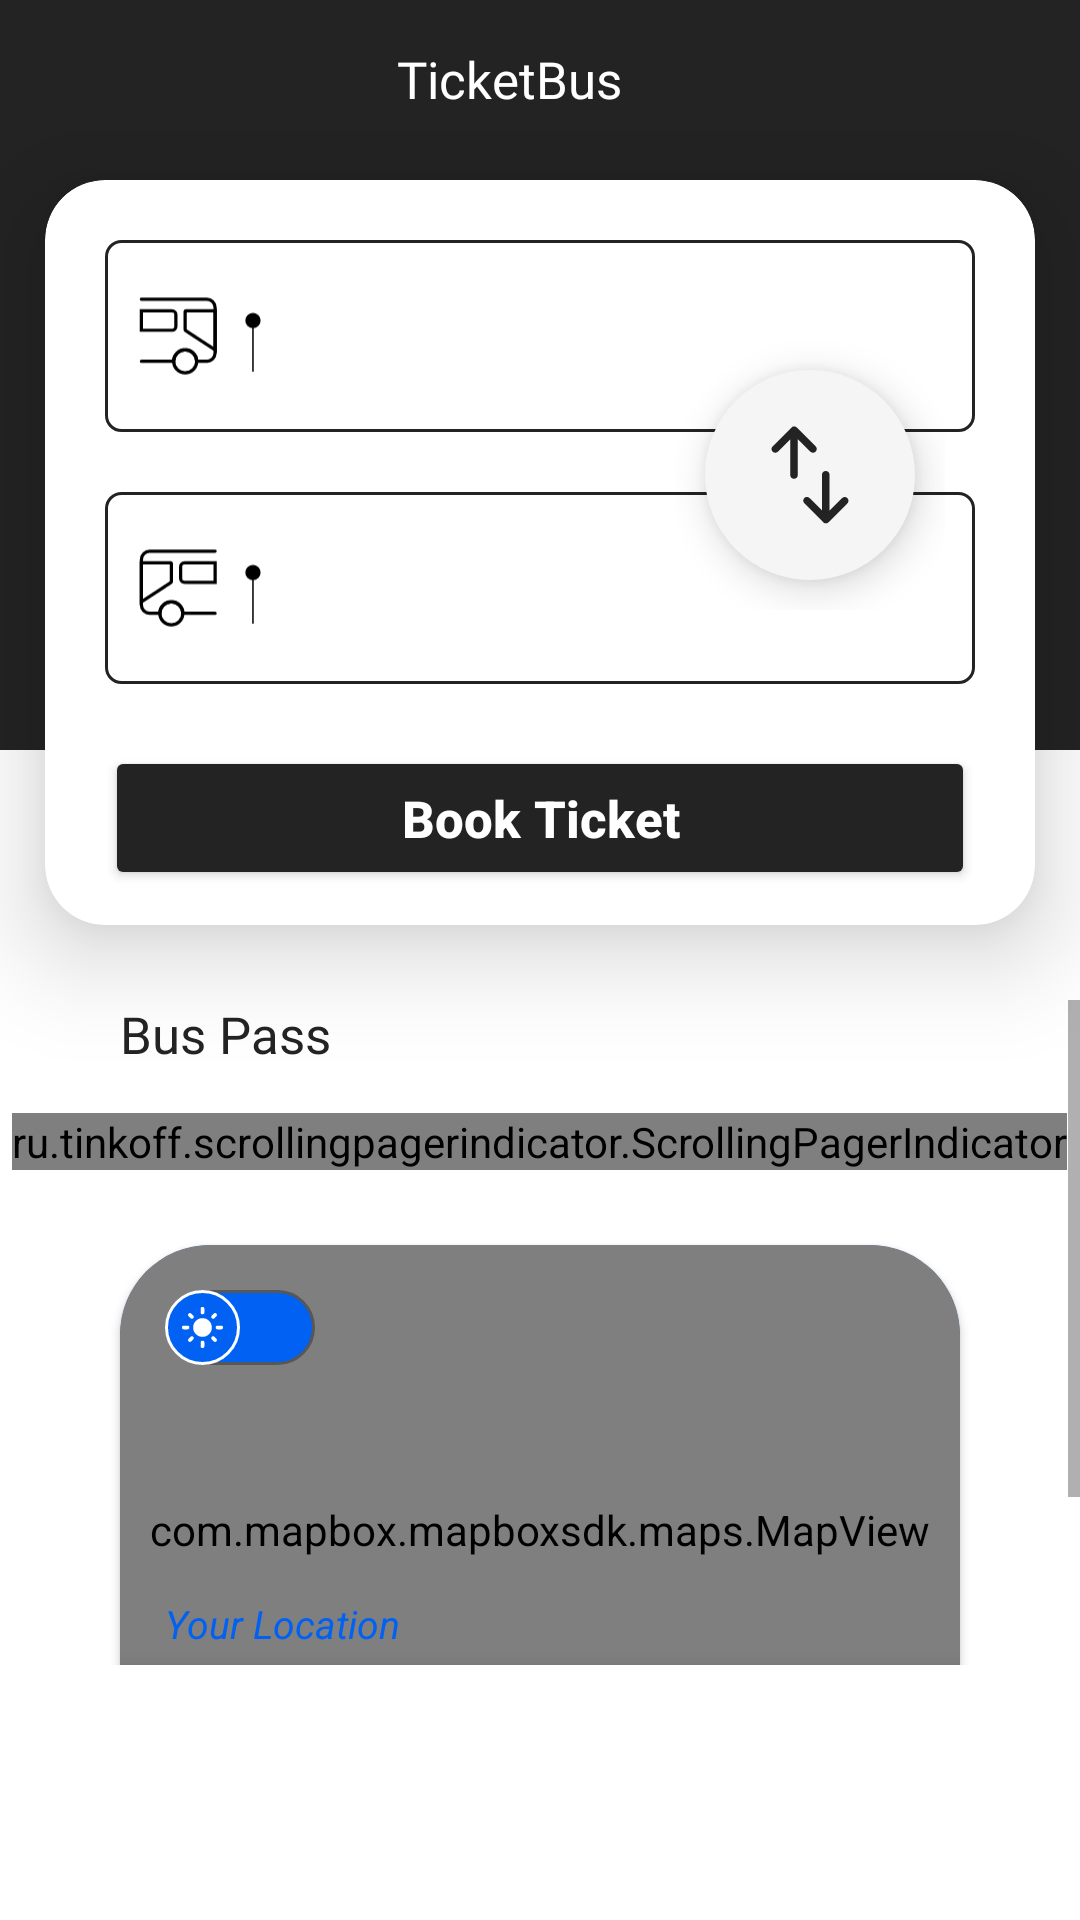

Icon bounding boxes for this 1080w x 1920h phone screenshot, format BBox(x1, y1, x2, y2):
from location stop: BBox(139, 297, 261, 375)
swap: BBox(730, 426, 914, 547)
to location stop: BBox(139, 549, 261, 627)
